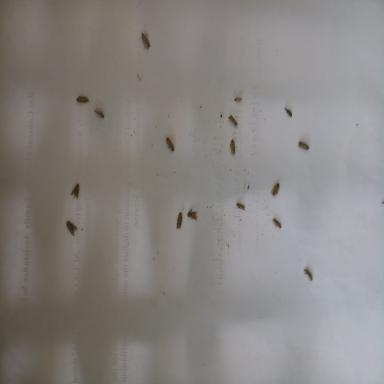pbw: (65, 219, 77, 235), (70, 183, 80, 200), (140, 32, 150, 49), (74, 94, 90, 104), (174, 211, 182, 229), (165, 136, 174, 151), (270, 183, 279, 196), (304, 267, 312, 281), (228, 114, 238, 125), (272, 217, 281, 228), (233, 202, 245, 210), (94, 109, 104, 118), (298, 141, 308, 150), (230, 138, 235, 154), (233, 96, 242, 101)
